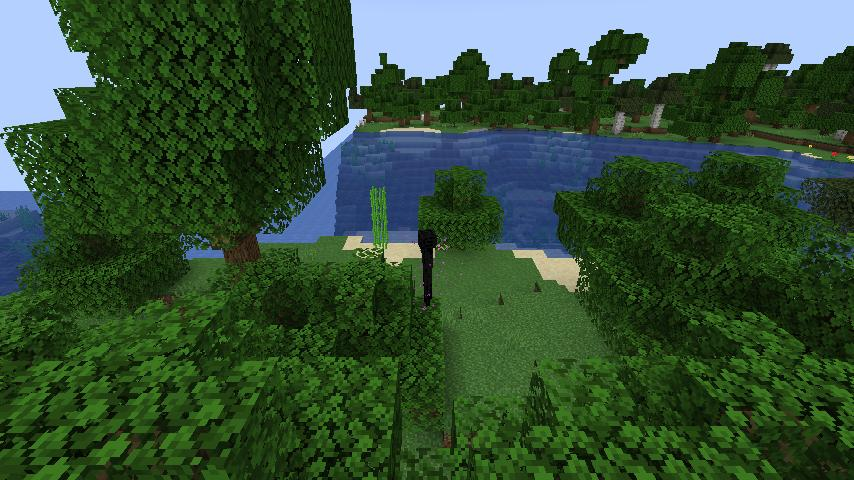enderman: (417, 226, 439, 310)
